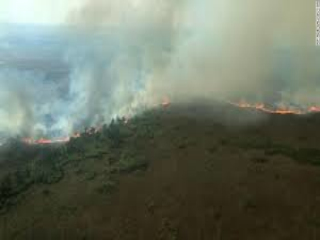fire: (240, 99, 317, 119), (26, 136, 65, 147)
smoke: (67, 10, 191, 129)
